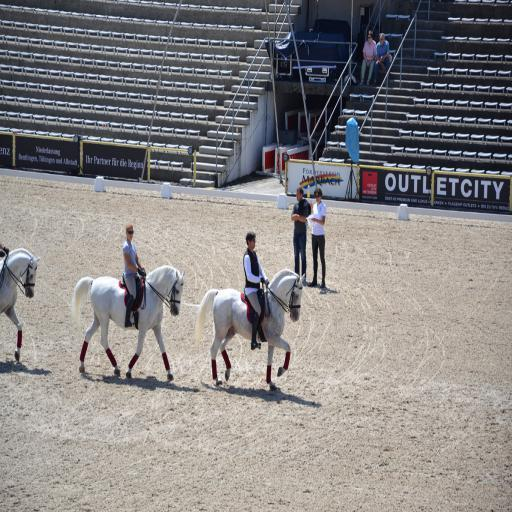horse: (195, 267, 307, 391), (72, 264, 184, 382), (0, 251, 41, 365)
